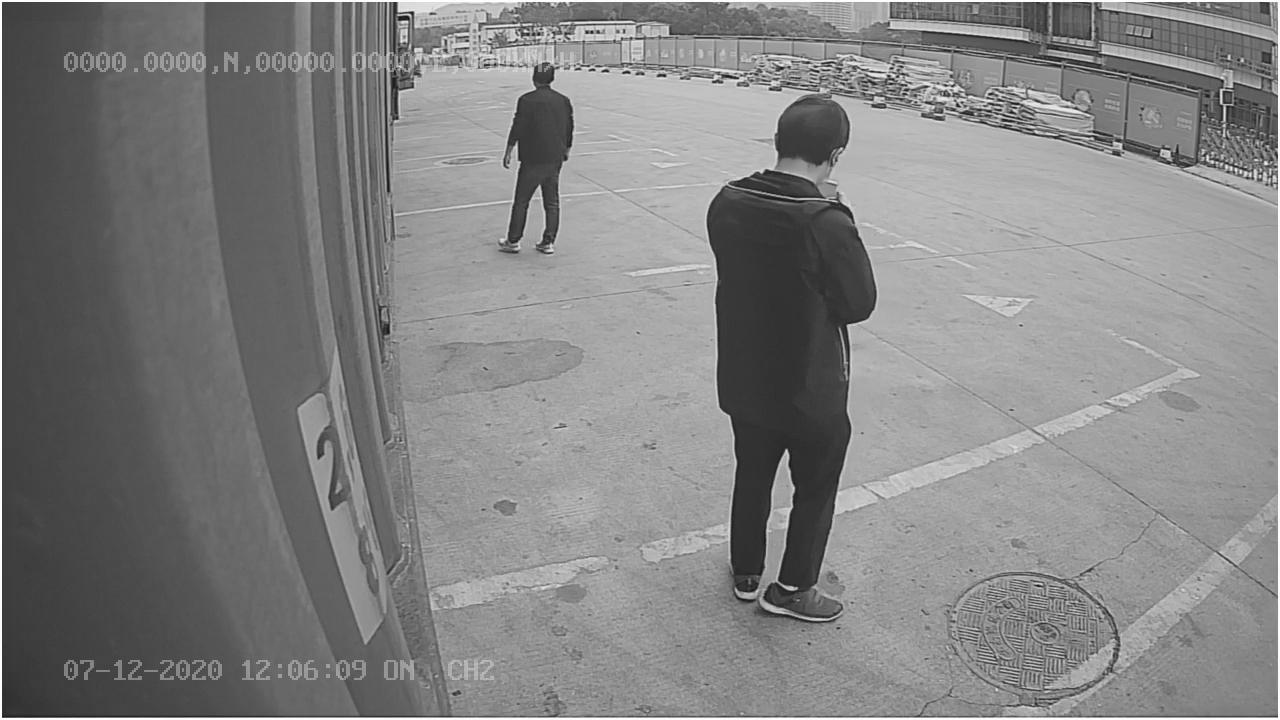person: (702, 86, 886, 625)
